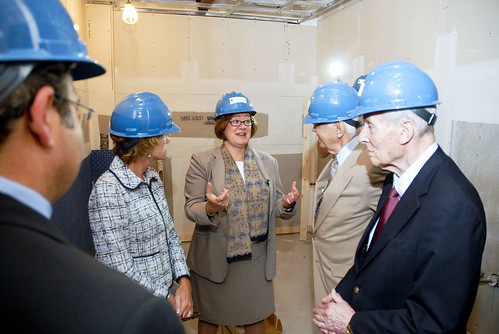person hardhat: (1, 1, 107, 207), (351, 62, 443, 166), (109, 92, 181, 160), (302, 81, 359, 151), (212, 91, 256, 147)
